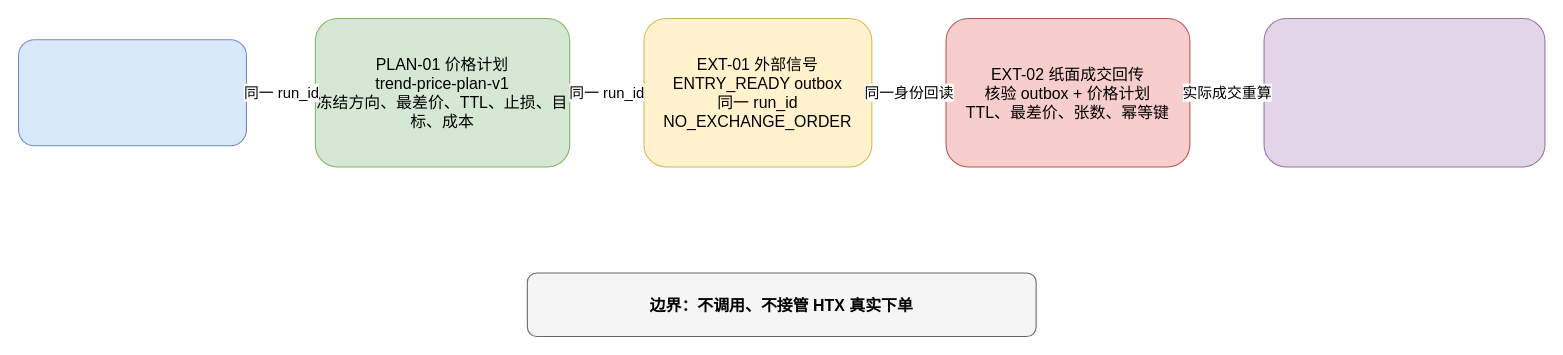
Image size: 1563x355. Some labels were removed from this diagram. Each missing label, with the centre of its shape:
"SIG-01 候选证据 稳定 run_id trend-entry:<合约>:<周期>:<K线时间>" goes at point (131, 92).
"纸面退出计划与账本 paper-exit-plan-v1 按实际成交重算风险、1R/2R、目标与成本" goes at point (1404, 92).
